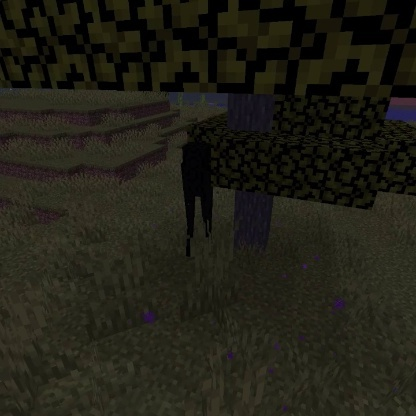enderman: (179, 139, 214, 259)
